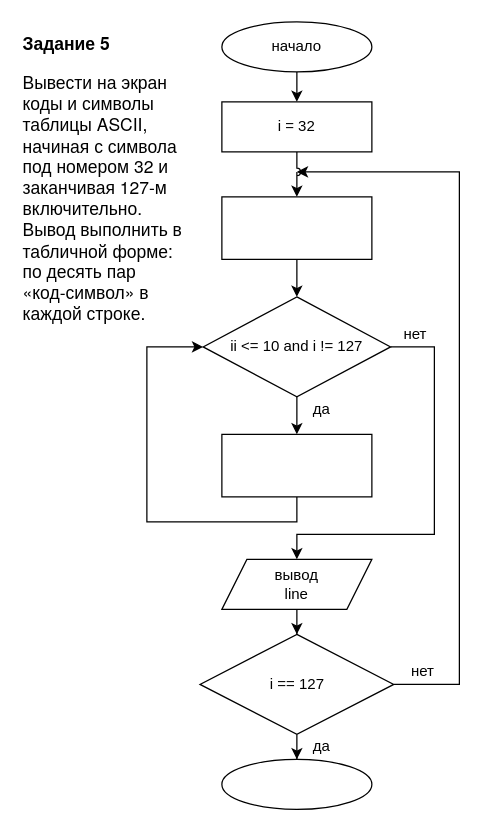
Image size: 491x831. Some labels were removed from this diagram. Here are the shapes that lost their labels. From the top down, the centre of each, then its label:
At point (296, 227): "ii = 1 line = '' (пустой string)".
At point (296, 465): "line += f'{i}:{chr(i)}' ii += 1 i += 1".
At point (296, 783): "конец".
